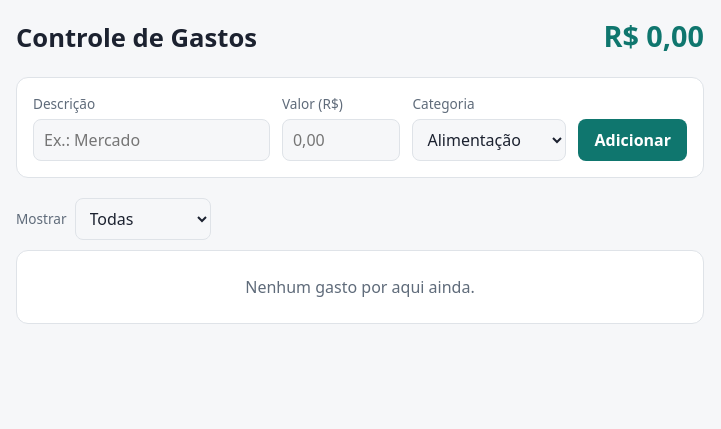
App › adiciona um gasto e atualiza o total
Type "Mercado" into the field labelled "Descrição". click: (152, 140)
box: [33,119,270,161]
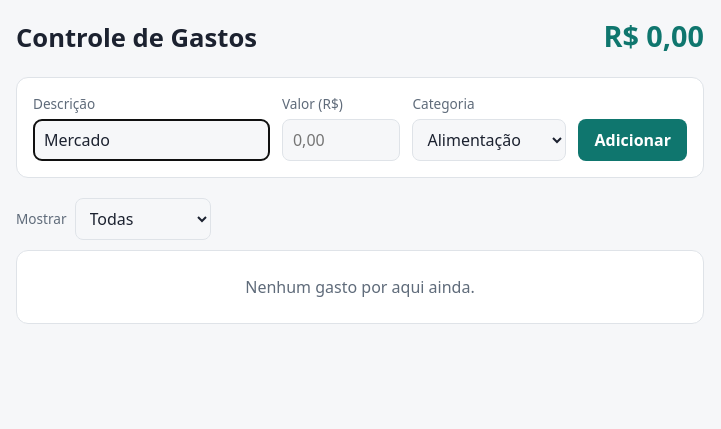
Type "150,00" into the field labelled "Valor (R$)". click: (341, 140)
box: [282,119,400,161]
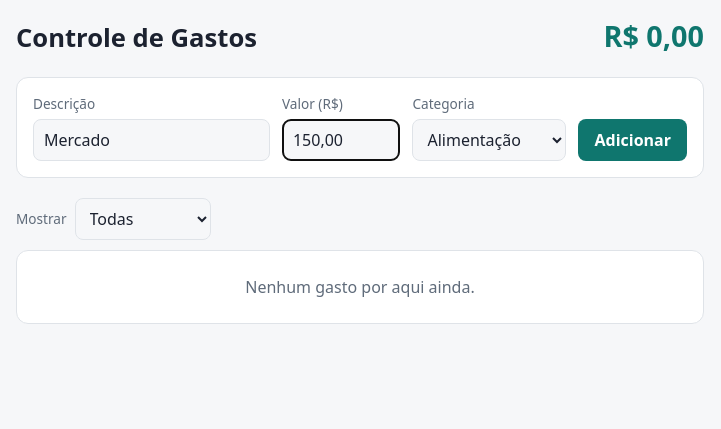
Click the button "Adicionar". click: (633, 140)
box: [578,119,687,161]
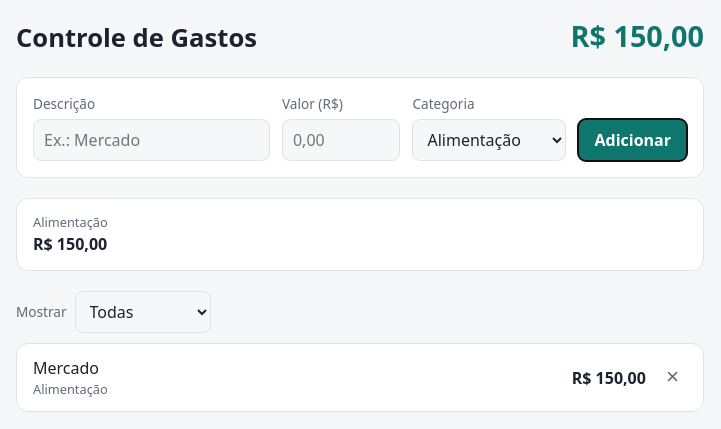
Expected: the text "Mercado" is shown, [33,357,99,379]
Expected: the text named "Total gasto" reads "R$ 150,00", [570,16,704,55]
Expected: the field labelled "Descrição" is empty, [33,119,270,161]
